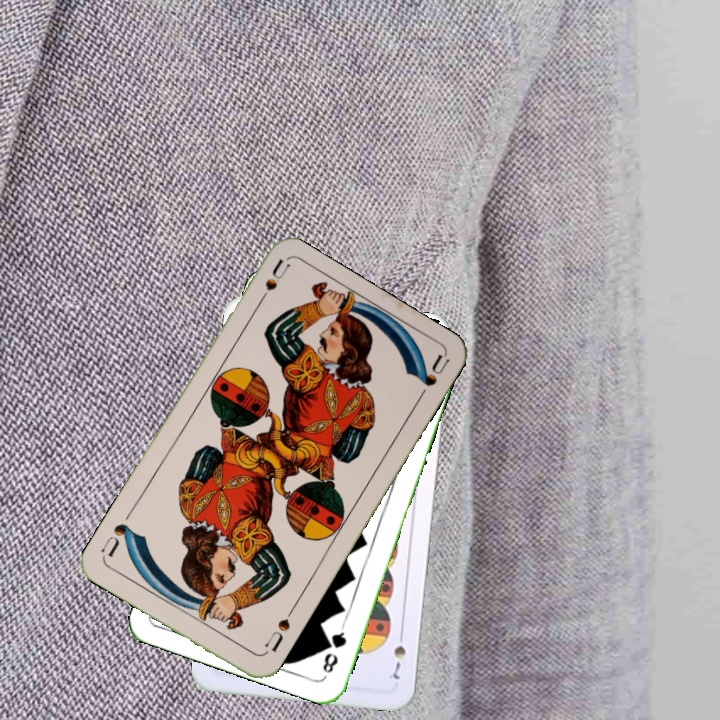G8: (318, 621, 349, 676)
S7: (389, 626, 409, 682)
SU: (251, 256, 292, 312), (261, 603, 297, 655)
